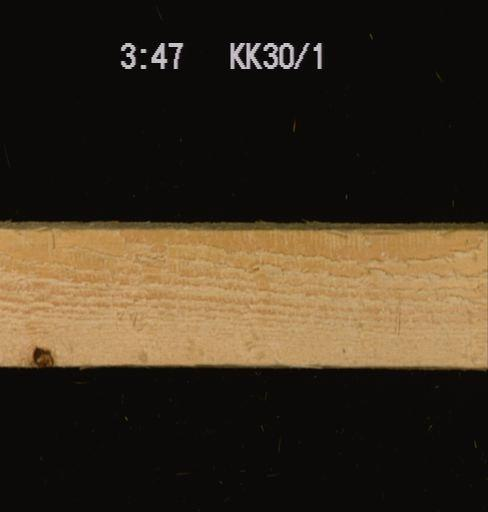edge_knot: (30, 345, 55, 367)
split: (359, 225, 407, 239)
